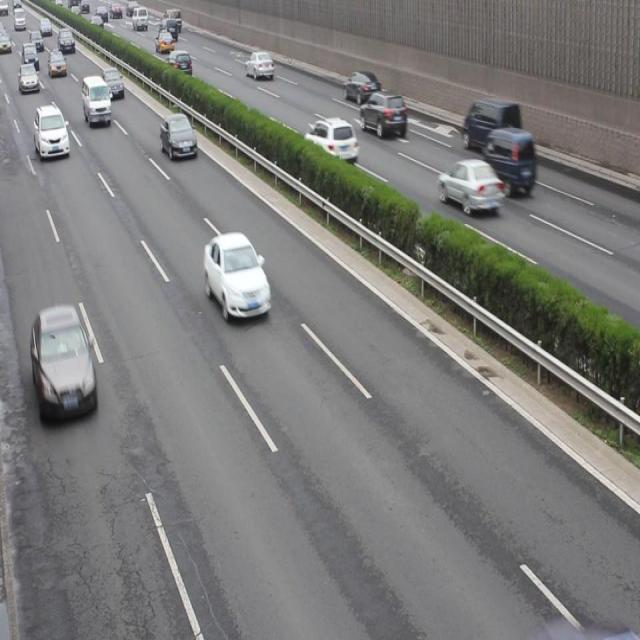car: (30, 305, 99, 430), (202, 231, 272, 322), (441, 160, 509, 217), (484, 126, 539, 196), (306, 118, 361, 166), (362, 90, 410, 139), (36, 106, 73, 163), (162, 116, 201, 163), (345, 73, 384, 105), (165, 50, 194, 78), (246, 51, 274, 79), (102, 69, 126, 100), (20, 65, 40, 94), (48, 51, 68, 79), (58, 29, 77, 54), (24, 44, 41, 71), (156, 30, 175, 54)
truck: (464, 98, 525, 153), (84, 76, 113, 127)
